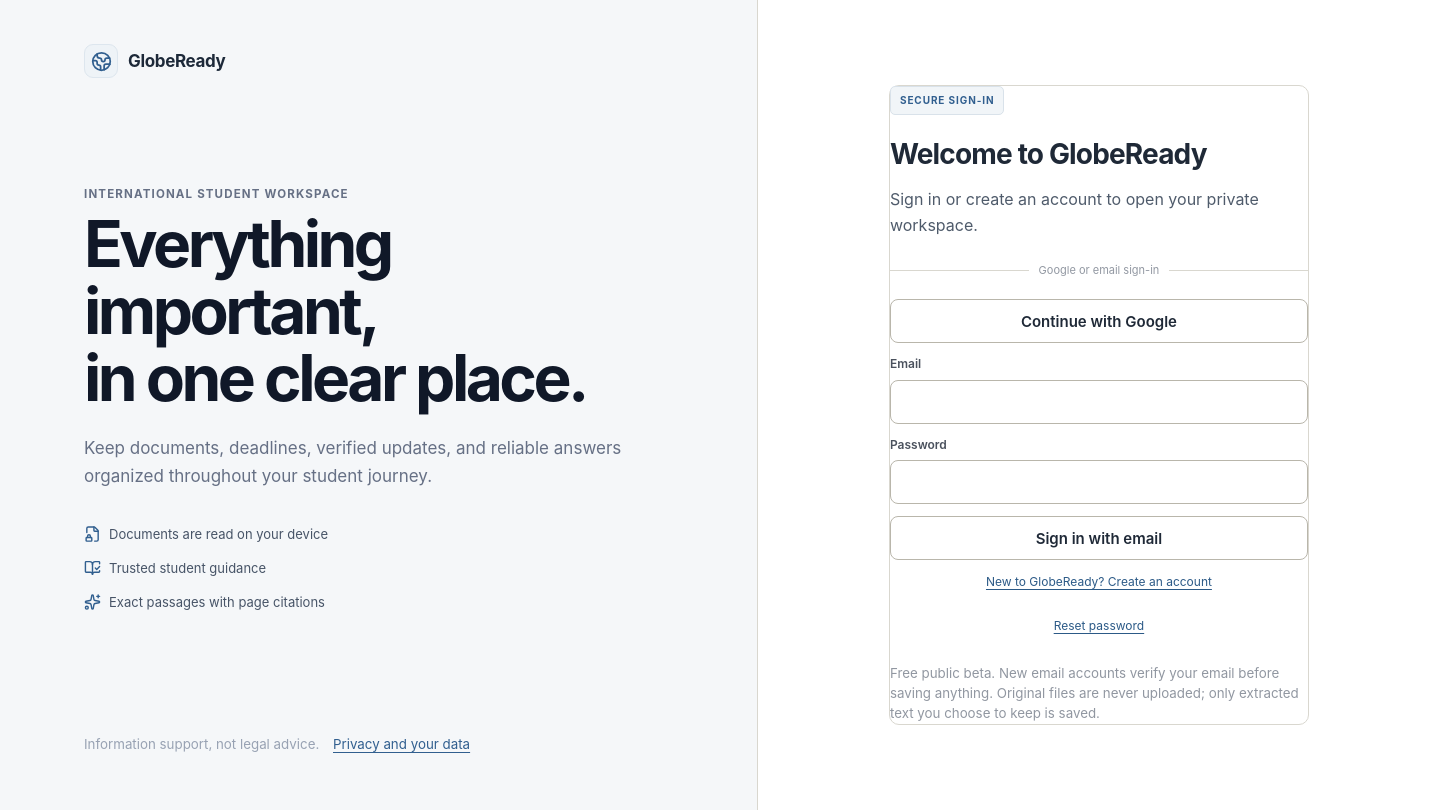
Test: sign-in failures show readable messages, not Firebase codes
Type "maya@example.com" into the field labelled "Email" at (1099, 402), box 890,380 -> 1308,424
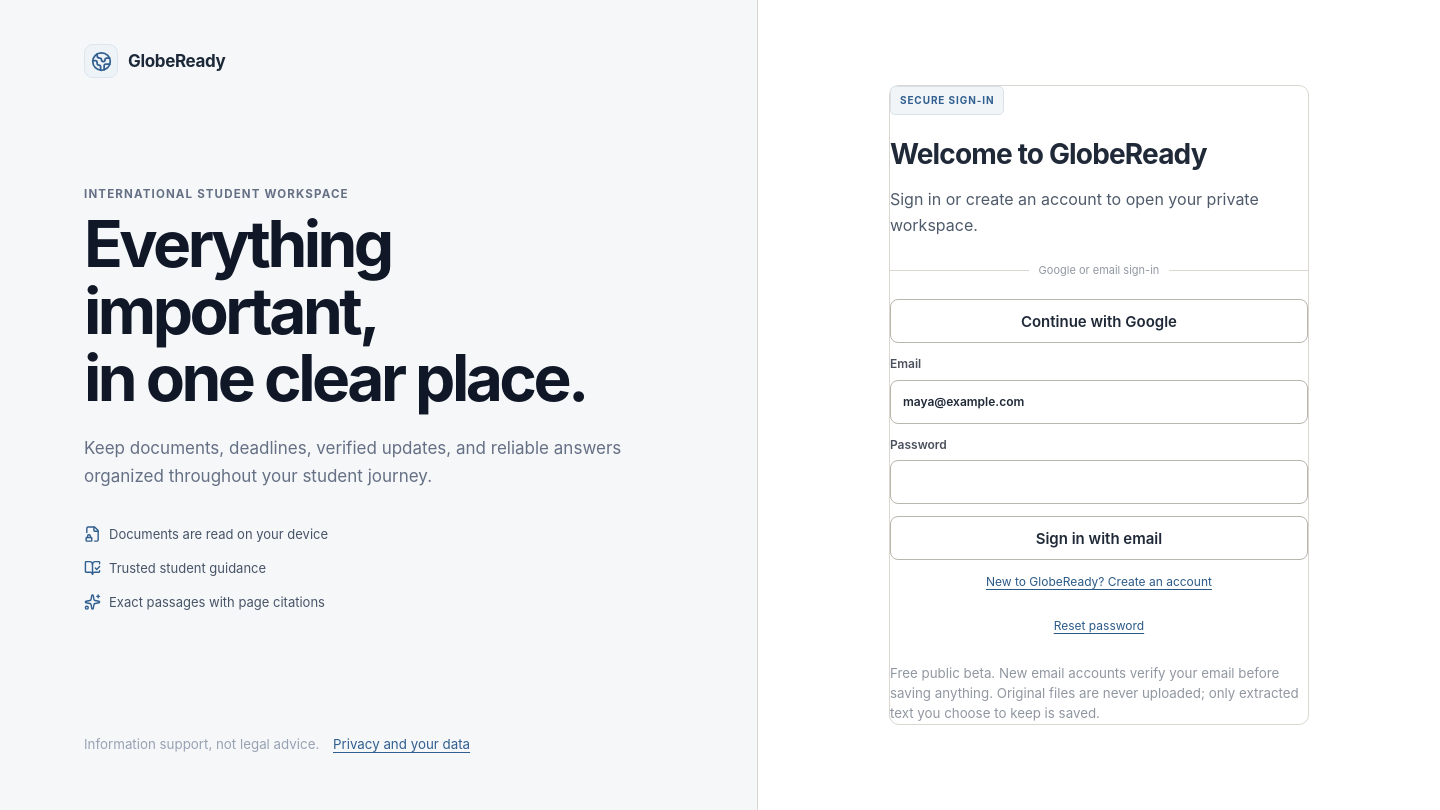
Type "secret1" into the password field labelled "Password" at (1099, 482), box 890,460 -> 1308,504
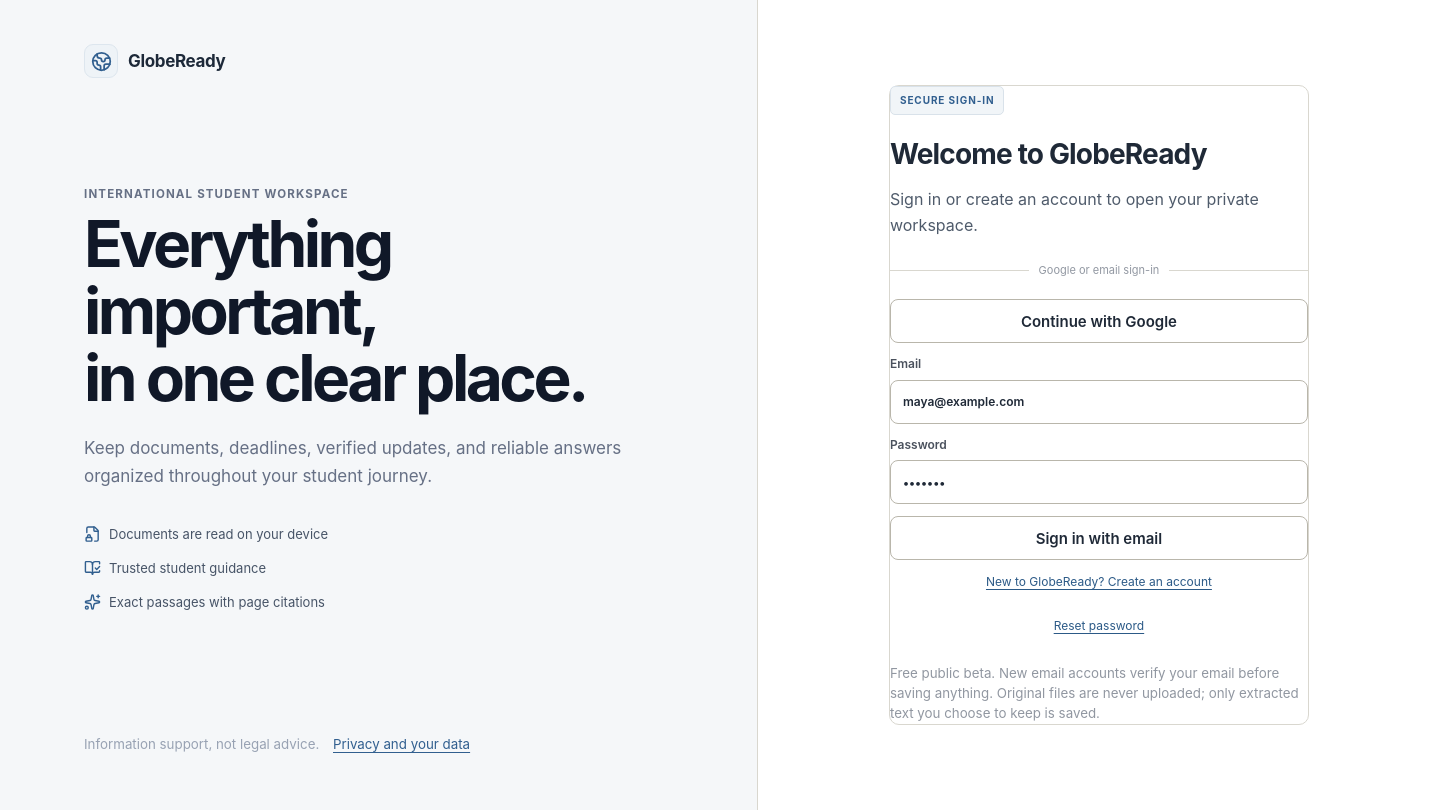
Click the button "Sign in with email" at (1099, 538), box 890,516 -> 1308,560
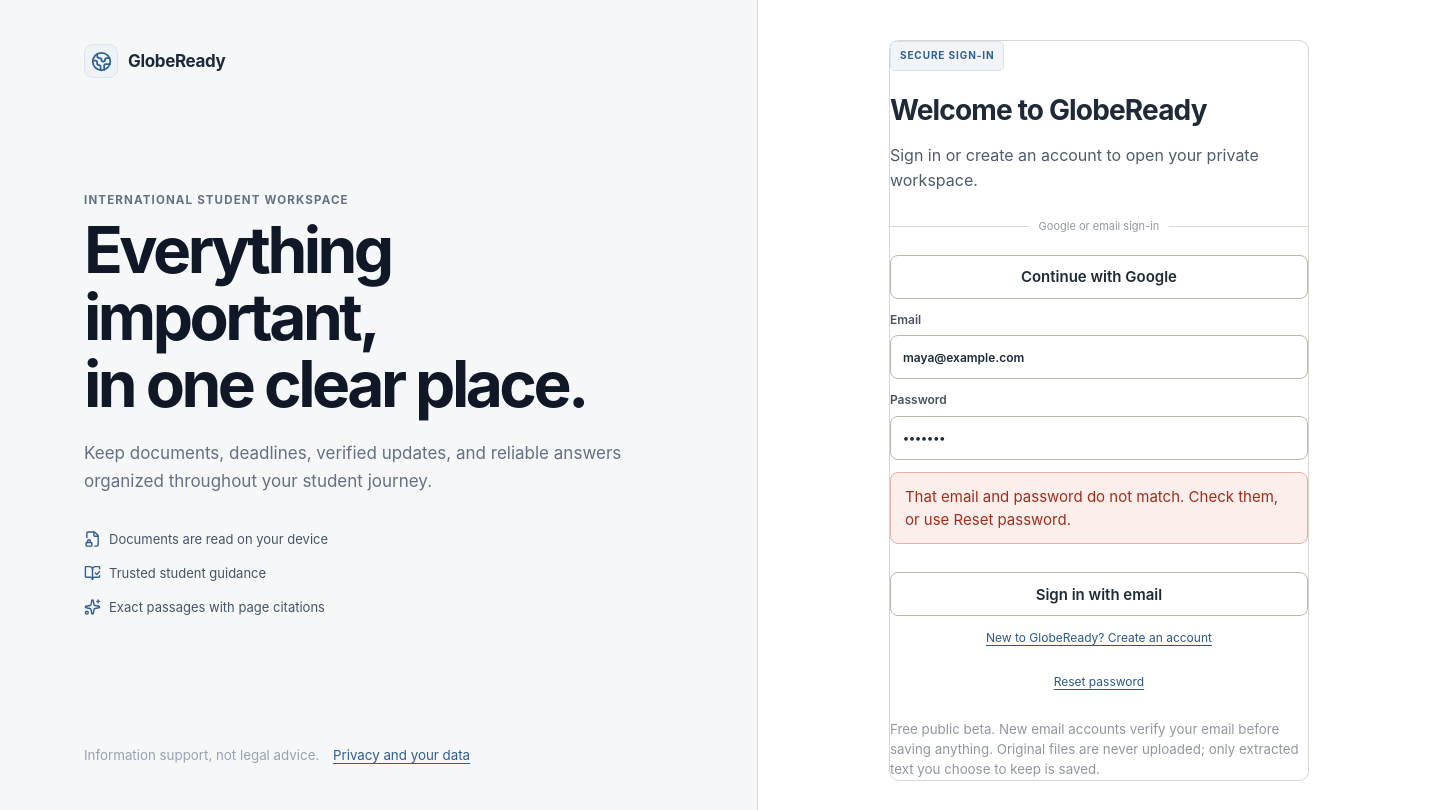
Expected: the message does not show "Firebase", 890,472 -> 1308,544
Expected: the message shows "do not match", 905,487 -> 1278,529
